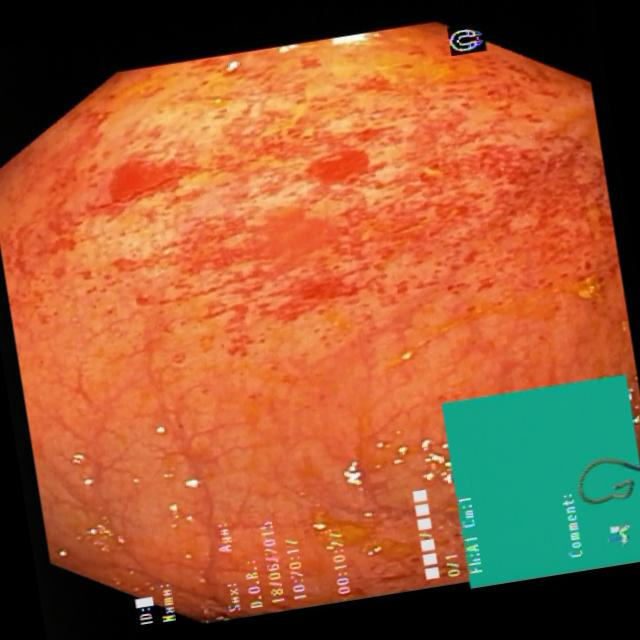ulcerative-colities: (0, 41, 623, 375), (273, 507, 463, 601)
